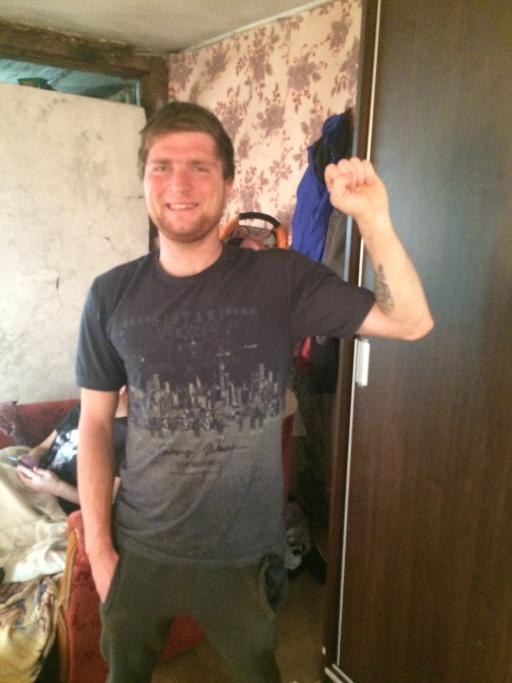fist: (321, 155, 390, 221)
